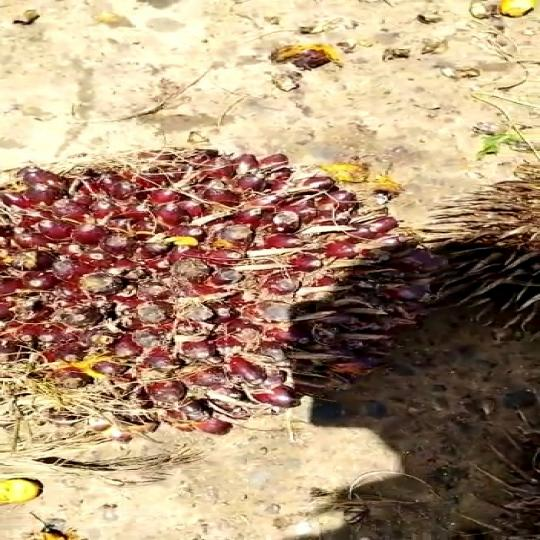kurang masak: (0, 139, 426, 450)
